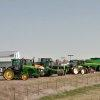Tractor: (12, 49, 78, 83)
